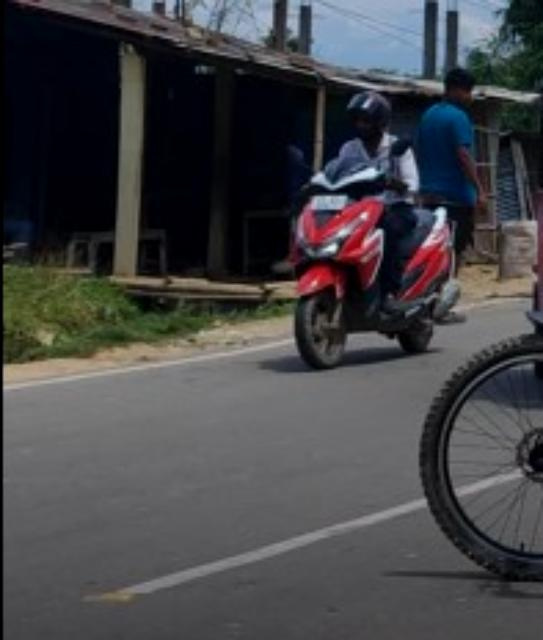licensePlate: (305, 192, 347, 213)
motorcycle: (276, 80, 451, 369)
withHelmet: (340, 88, 396, 135)
